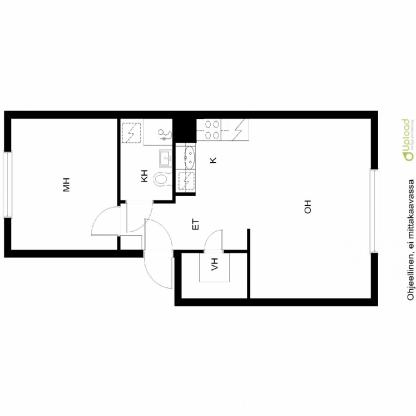door: (140, 220, 176, 292), (88, 196, 121, 241), (124, 196, 152, 236), (204, 226, 223, 256)
window: (1, 152, 12, 225), (370, 169, 378, 252)
zone: (120, 117, 371, 298), (12, 119, 117, 250), (121, 115, 172, 200)
